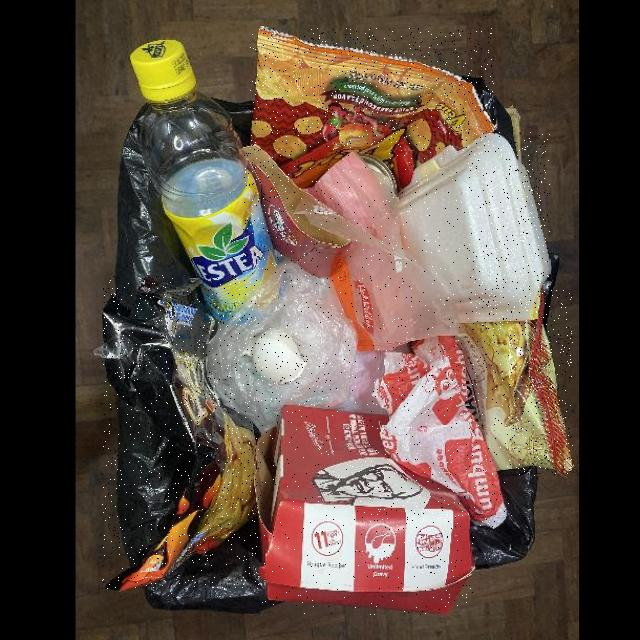biowaste: (251, 326, 307, 382)
paper: (254, 404, 474, 614), (373, 335, 509, 528), (243, 144, 351, 276)
plastic: (131, 39, 283, 327), (206, 263, 359, 432)
styrofoam: (398, 132, 550, 322)
wrapper: (102, 275, 259, 589), (251, 28, 495, 188), (293, 151, 469, 352), (456, 287, 573, 475)
